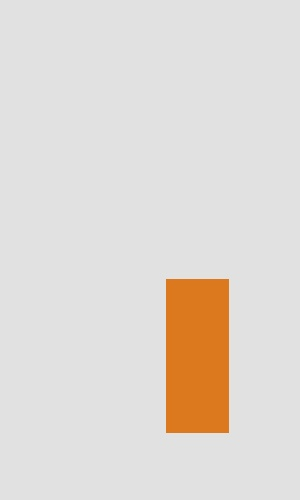square: (166, 279, 228, 432)
